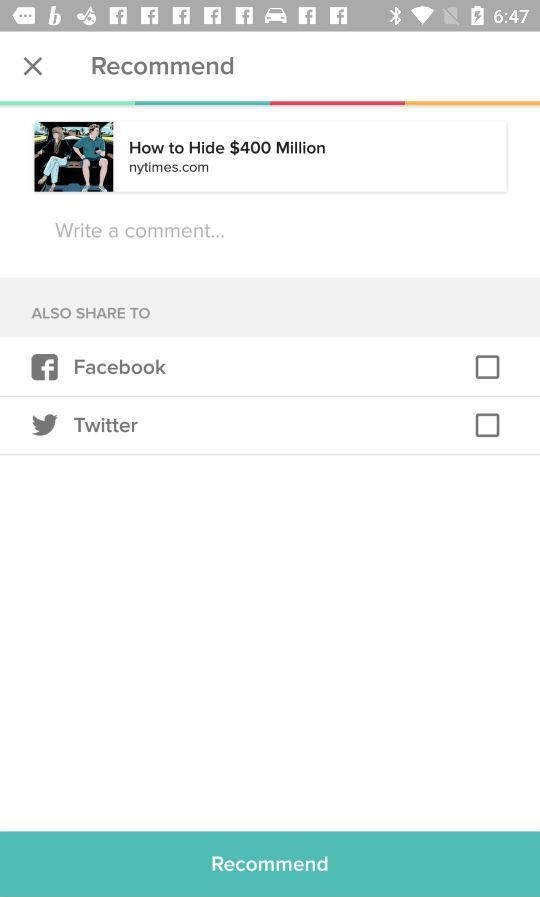CheckedTextView: (73, 411, 501, 439), (75, 355, 500, 380)
Icon: (32, 354, 60, 382), (32, 413, 60, 438), (24, 57, 44, 77)
Image: (35, 123, 114, 193)
Text: (130, 140, 326, 157), (55, 222, 225, 240), (92, 57, 234, 76), (32, 307, 151, 321), (75, 359, 168, 376), (130, 162, 210, 176), (74, 417, 140, 433)
TextButton: (1, 831, 540, 897)
UpperTaskBar: (1, 1, 540, 33)
